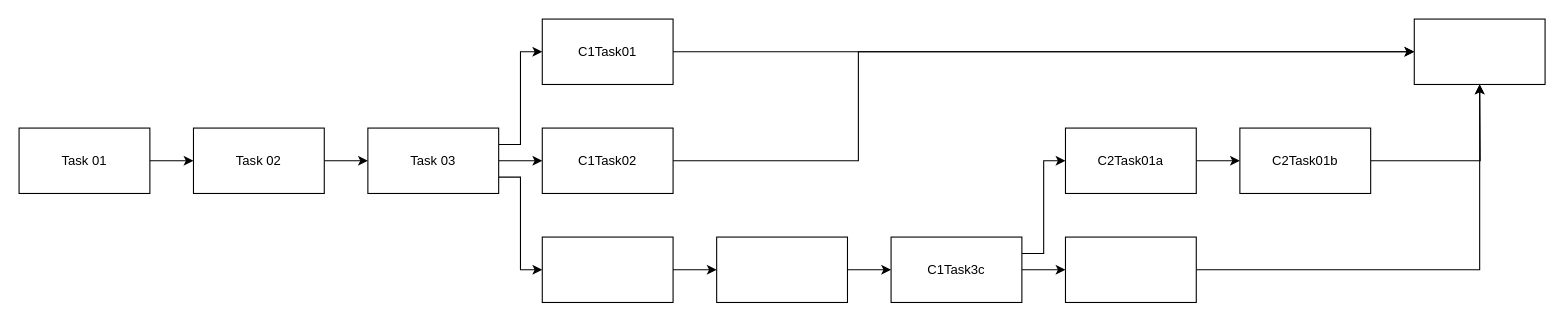
The diagram is 1564 pixels wide and 322 high, and some of its shapes have lost their labels. Each missing label, with the box of its shape:
C1Task03a: (541, 236, 673, 302)
C1Task3b: (716, 236, 847, 302)
C2Task02: (1064, 236, 1196, 302)
Task 04: (1413, 18, 1545, 84)
